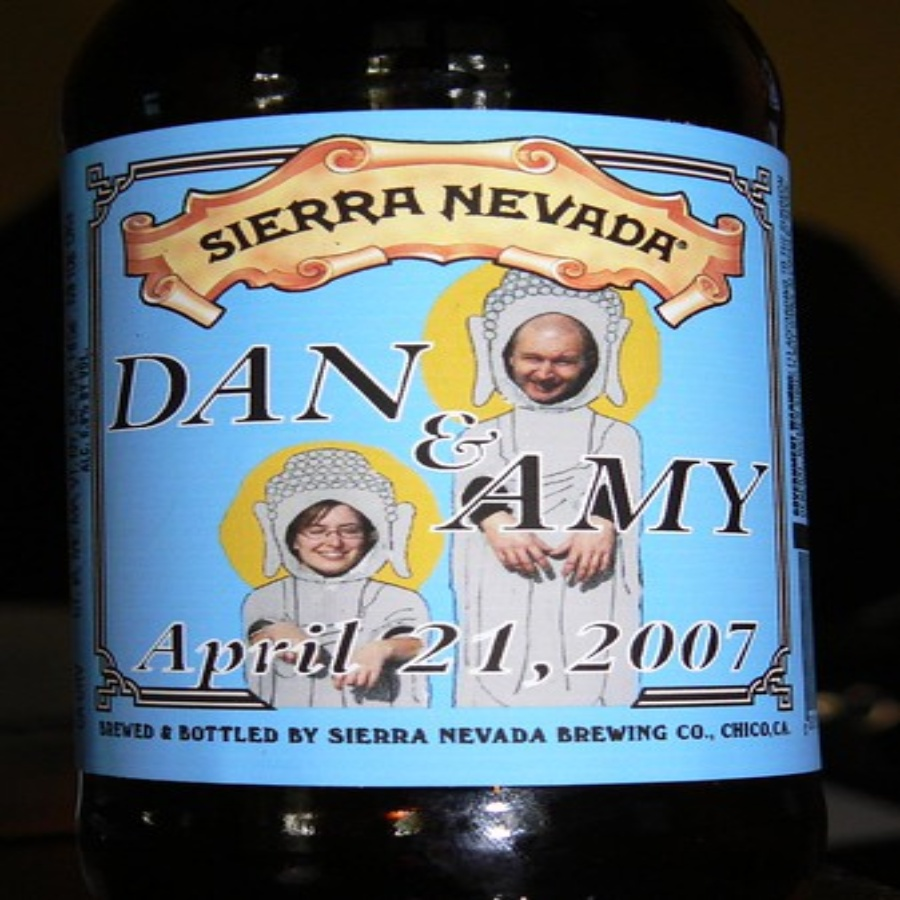beer: (28, 11, 844, 888)
